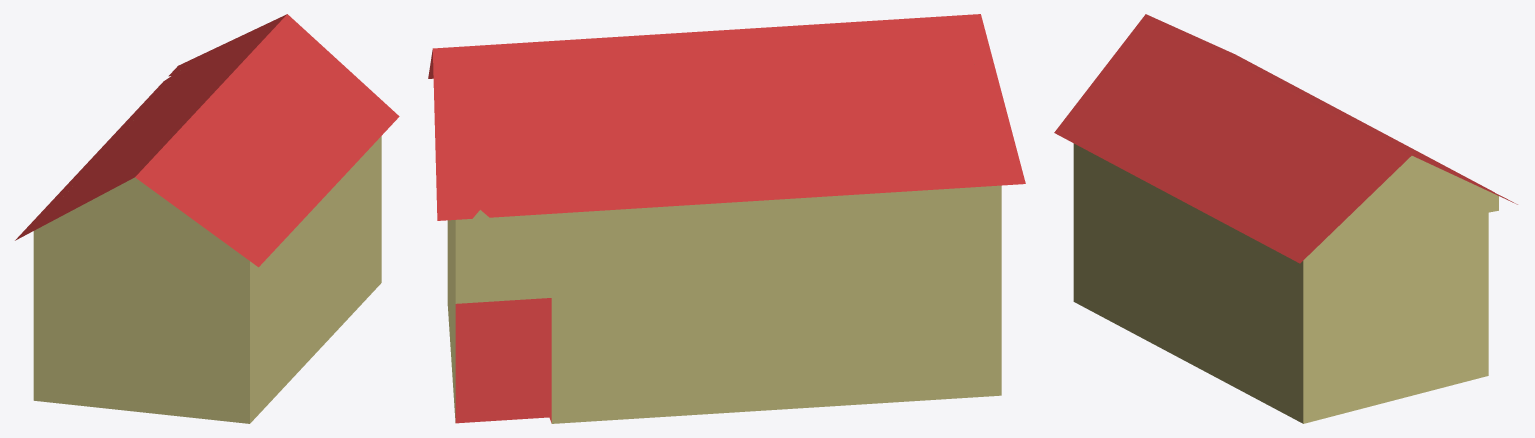
3 renders of one model, left to right at view 1: azimuth 30°, elevation 25°; view 2: azimuth 150°, elevation 25°; view 3: azimuth 270°, elevation 25°, orthographic. The views are drawn at different scales.
Bounding box in the file's own units: 25.12 × 23.67 × 13.85.
